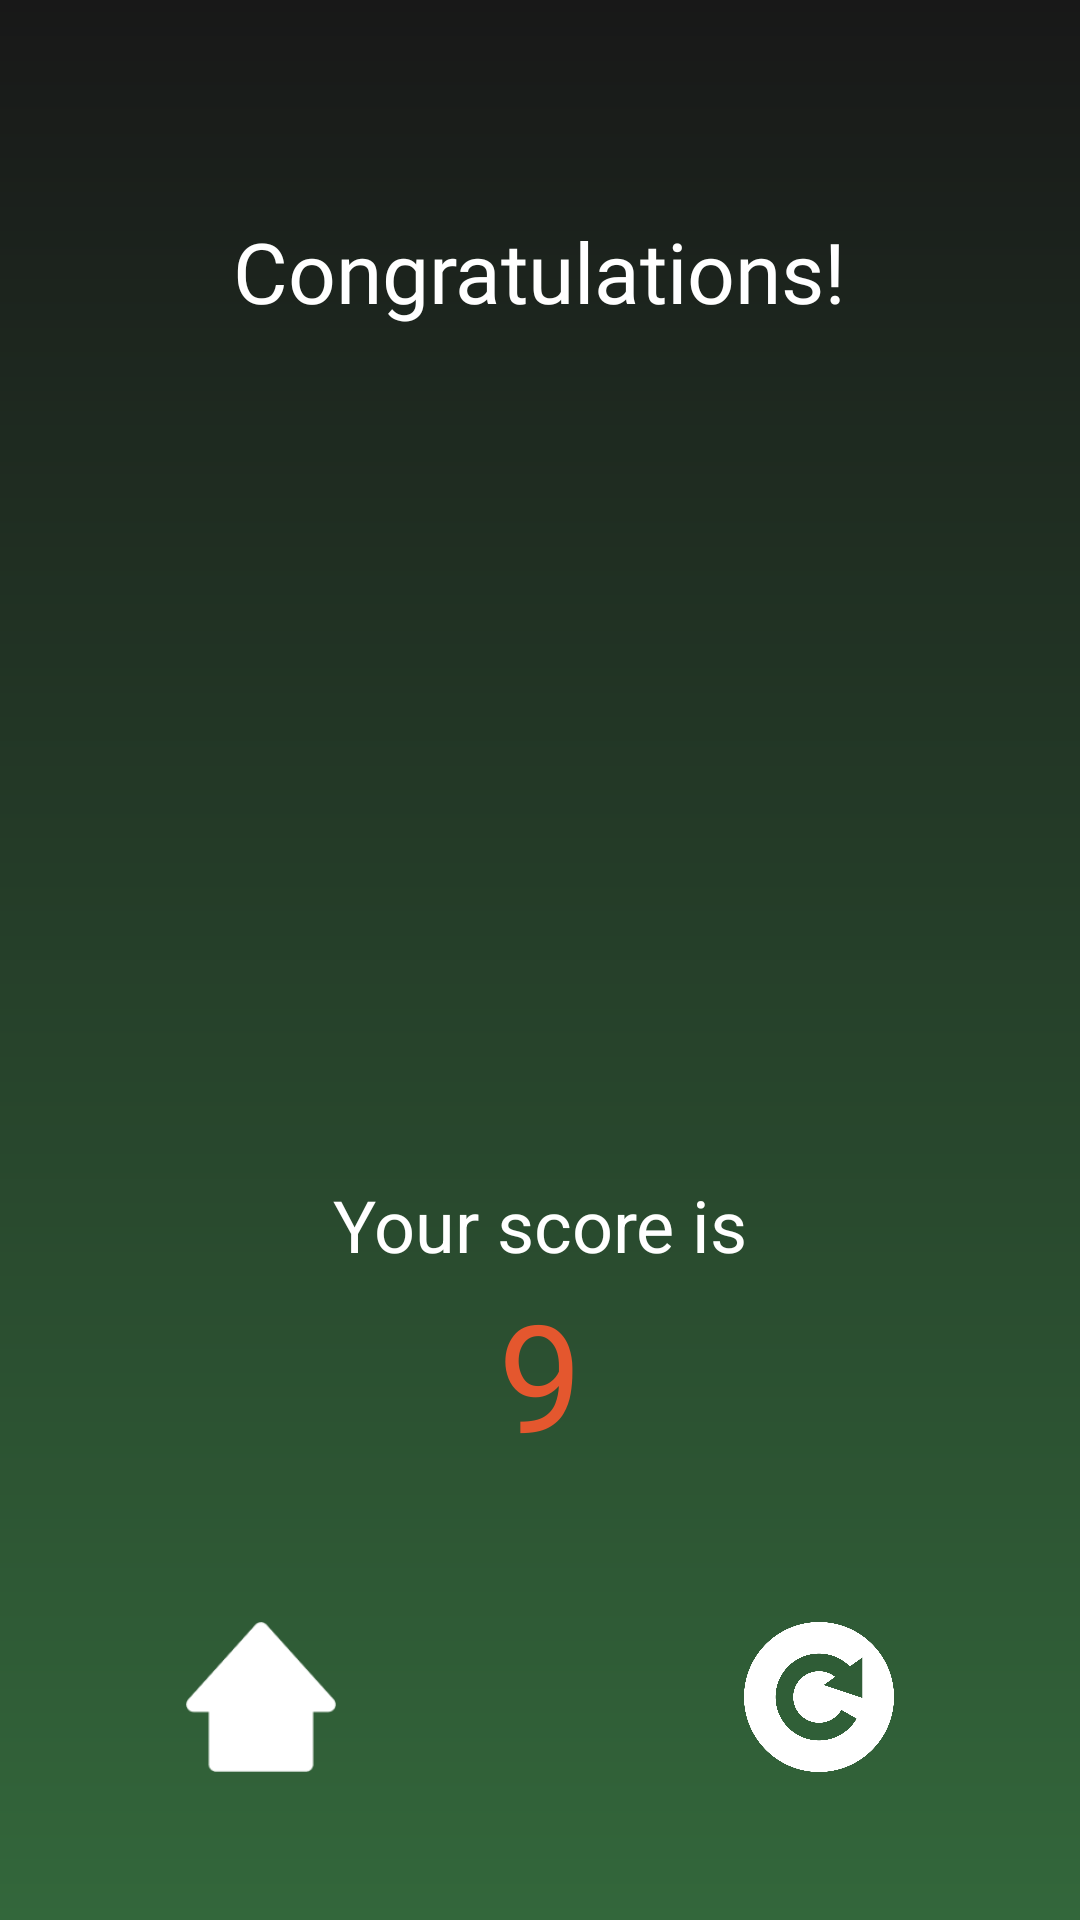

Point at icon controls on the screen. Image size 1080×1920, points as point (x, y).
home: point (261, 1697)
repeat: point (819, 1697)
